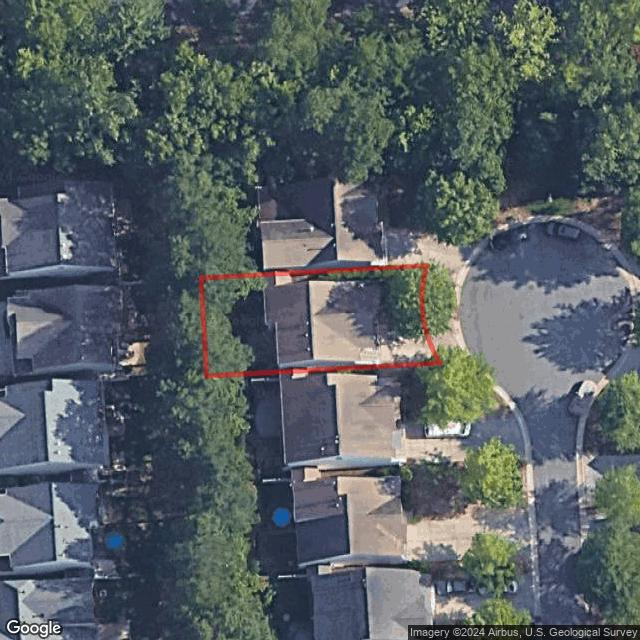Driveway: (380, 335, 434, 362)
Extra-Driveway: (426, 319, 462, 360)
Extra-Lawn: (420, 264, 455, 336)
House: (262, 280, 394, 364)
Lawn: (200, 265, 441, 377)
